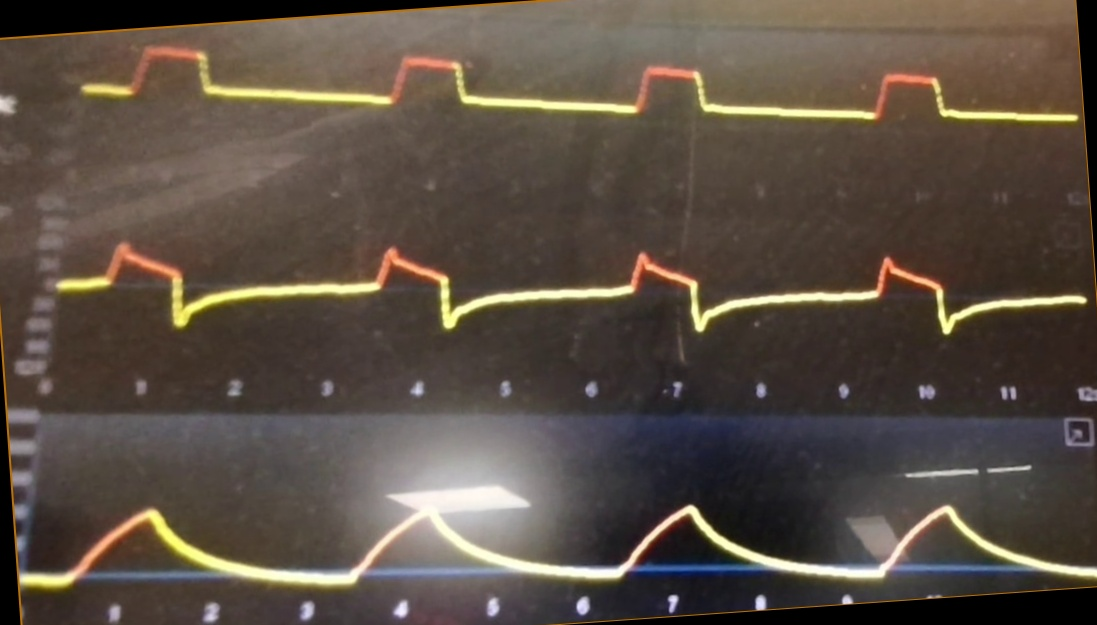Normal Flow: (59, 196, 1081, 374)
Normal Volume: (25, 454, 1095, 592)
